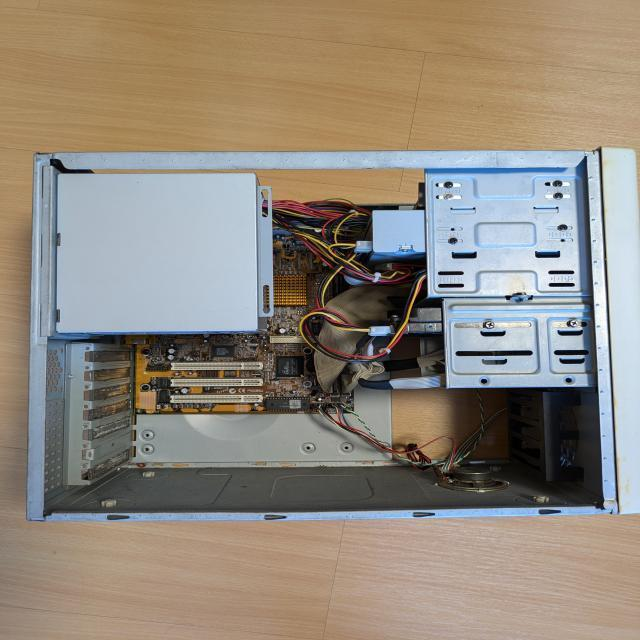DISK: (396, 307, 446, 333)
Mainboard: (132, 230, 358, 414)
PSU: (58, 174, 263, 334)
